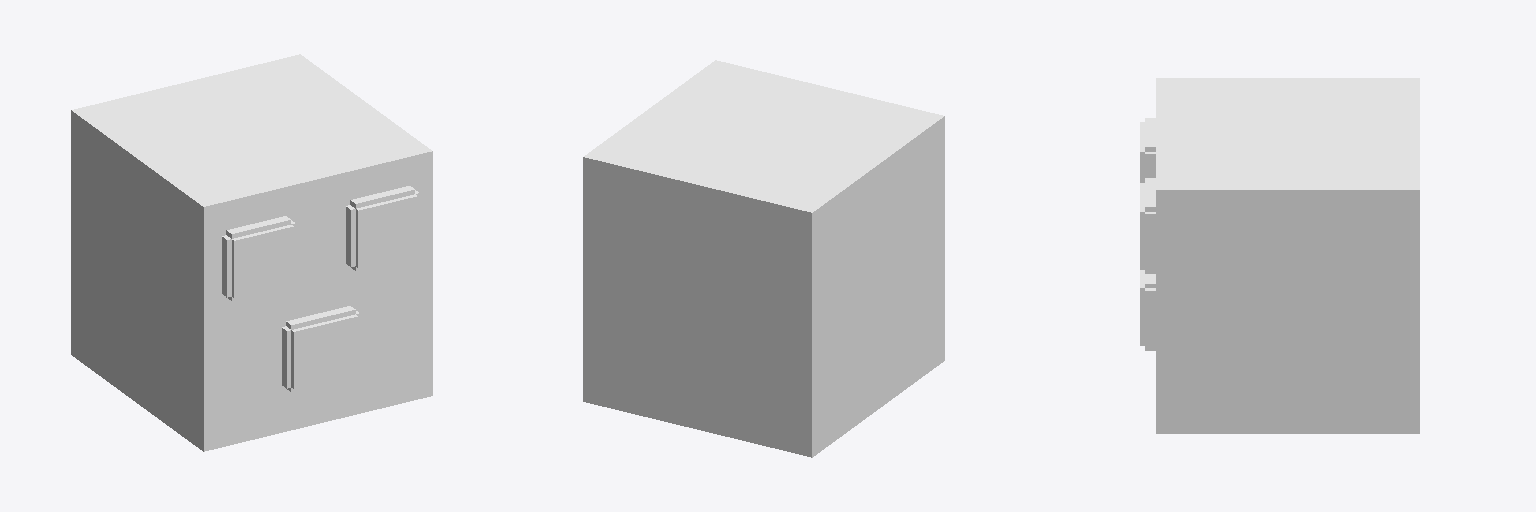
The model's file is MaleSlime.obj.
3 renders of one model, left to right at view 1: azimuth 30°, elevation 25°; view 2: azimuth 150°, elevation 25°; view 3: azimuth 270°, elevation 25°, orthographic.
Visible parts, largest first — view 1: MaleSlime; view 2: MaleSlime; view 3: MaleSlime.
Part boxes in pixels (x1,y1,x2,y2): MaleSlime: (71, 54, 432, 451); MaleSlime: (583, 60, 944, 457); MaleSlime: (1140, 78, 1419, 433).
Bounding box in the file's own units: 50 × 51 × 53.